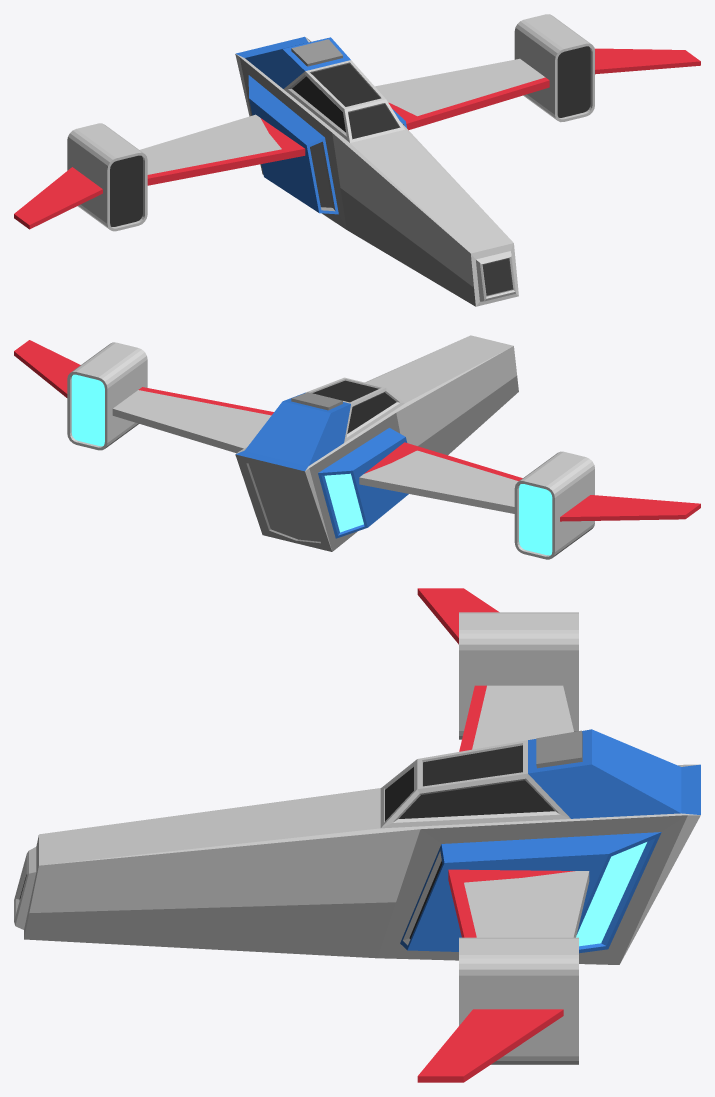
The model's file is newspaceship.fbx.
The picture shows the model from 3 angles, top to bottom: view 1: azimuth 30°, elevation 25°; view 2: azimuth 150°, elevation 25°; view 3: azimuth 270°, elevation 25°; orthographic projection. The views are drawn at different scales.
Parts seen in each view (by area): view 1: ship; view 2: ship; view 3: ship.
Part boxes in pixels (x1,y1,x2,y2): ship: [14, 14, 700, 306]; ship: [14, 335, 700, 559]; ship: [14, 588, 700, 1082].
Bounding box in the file's own units: 1928 × 361 × 1147.
